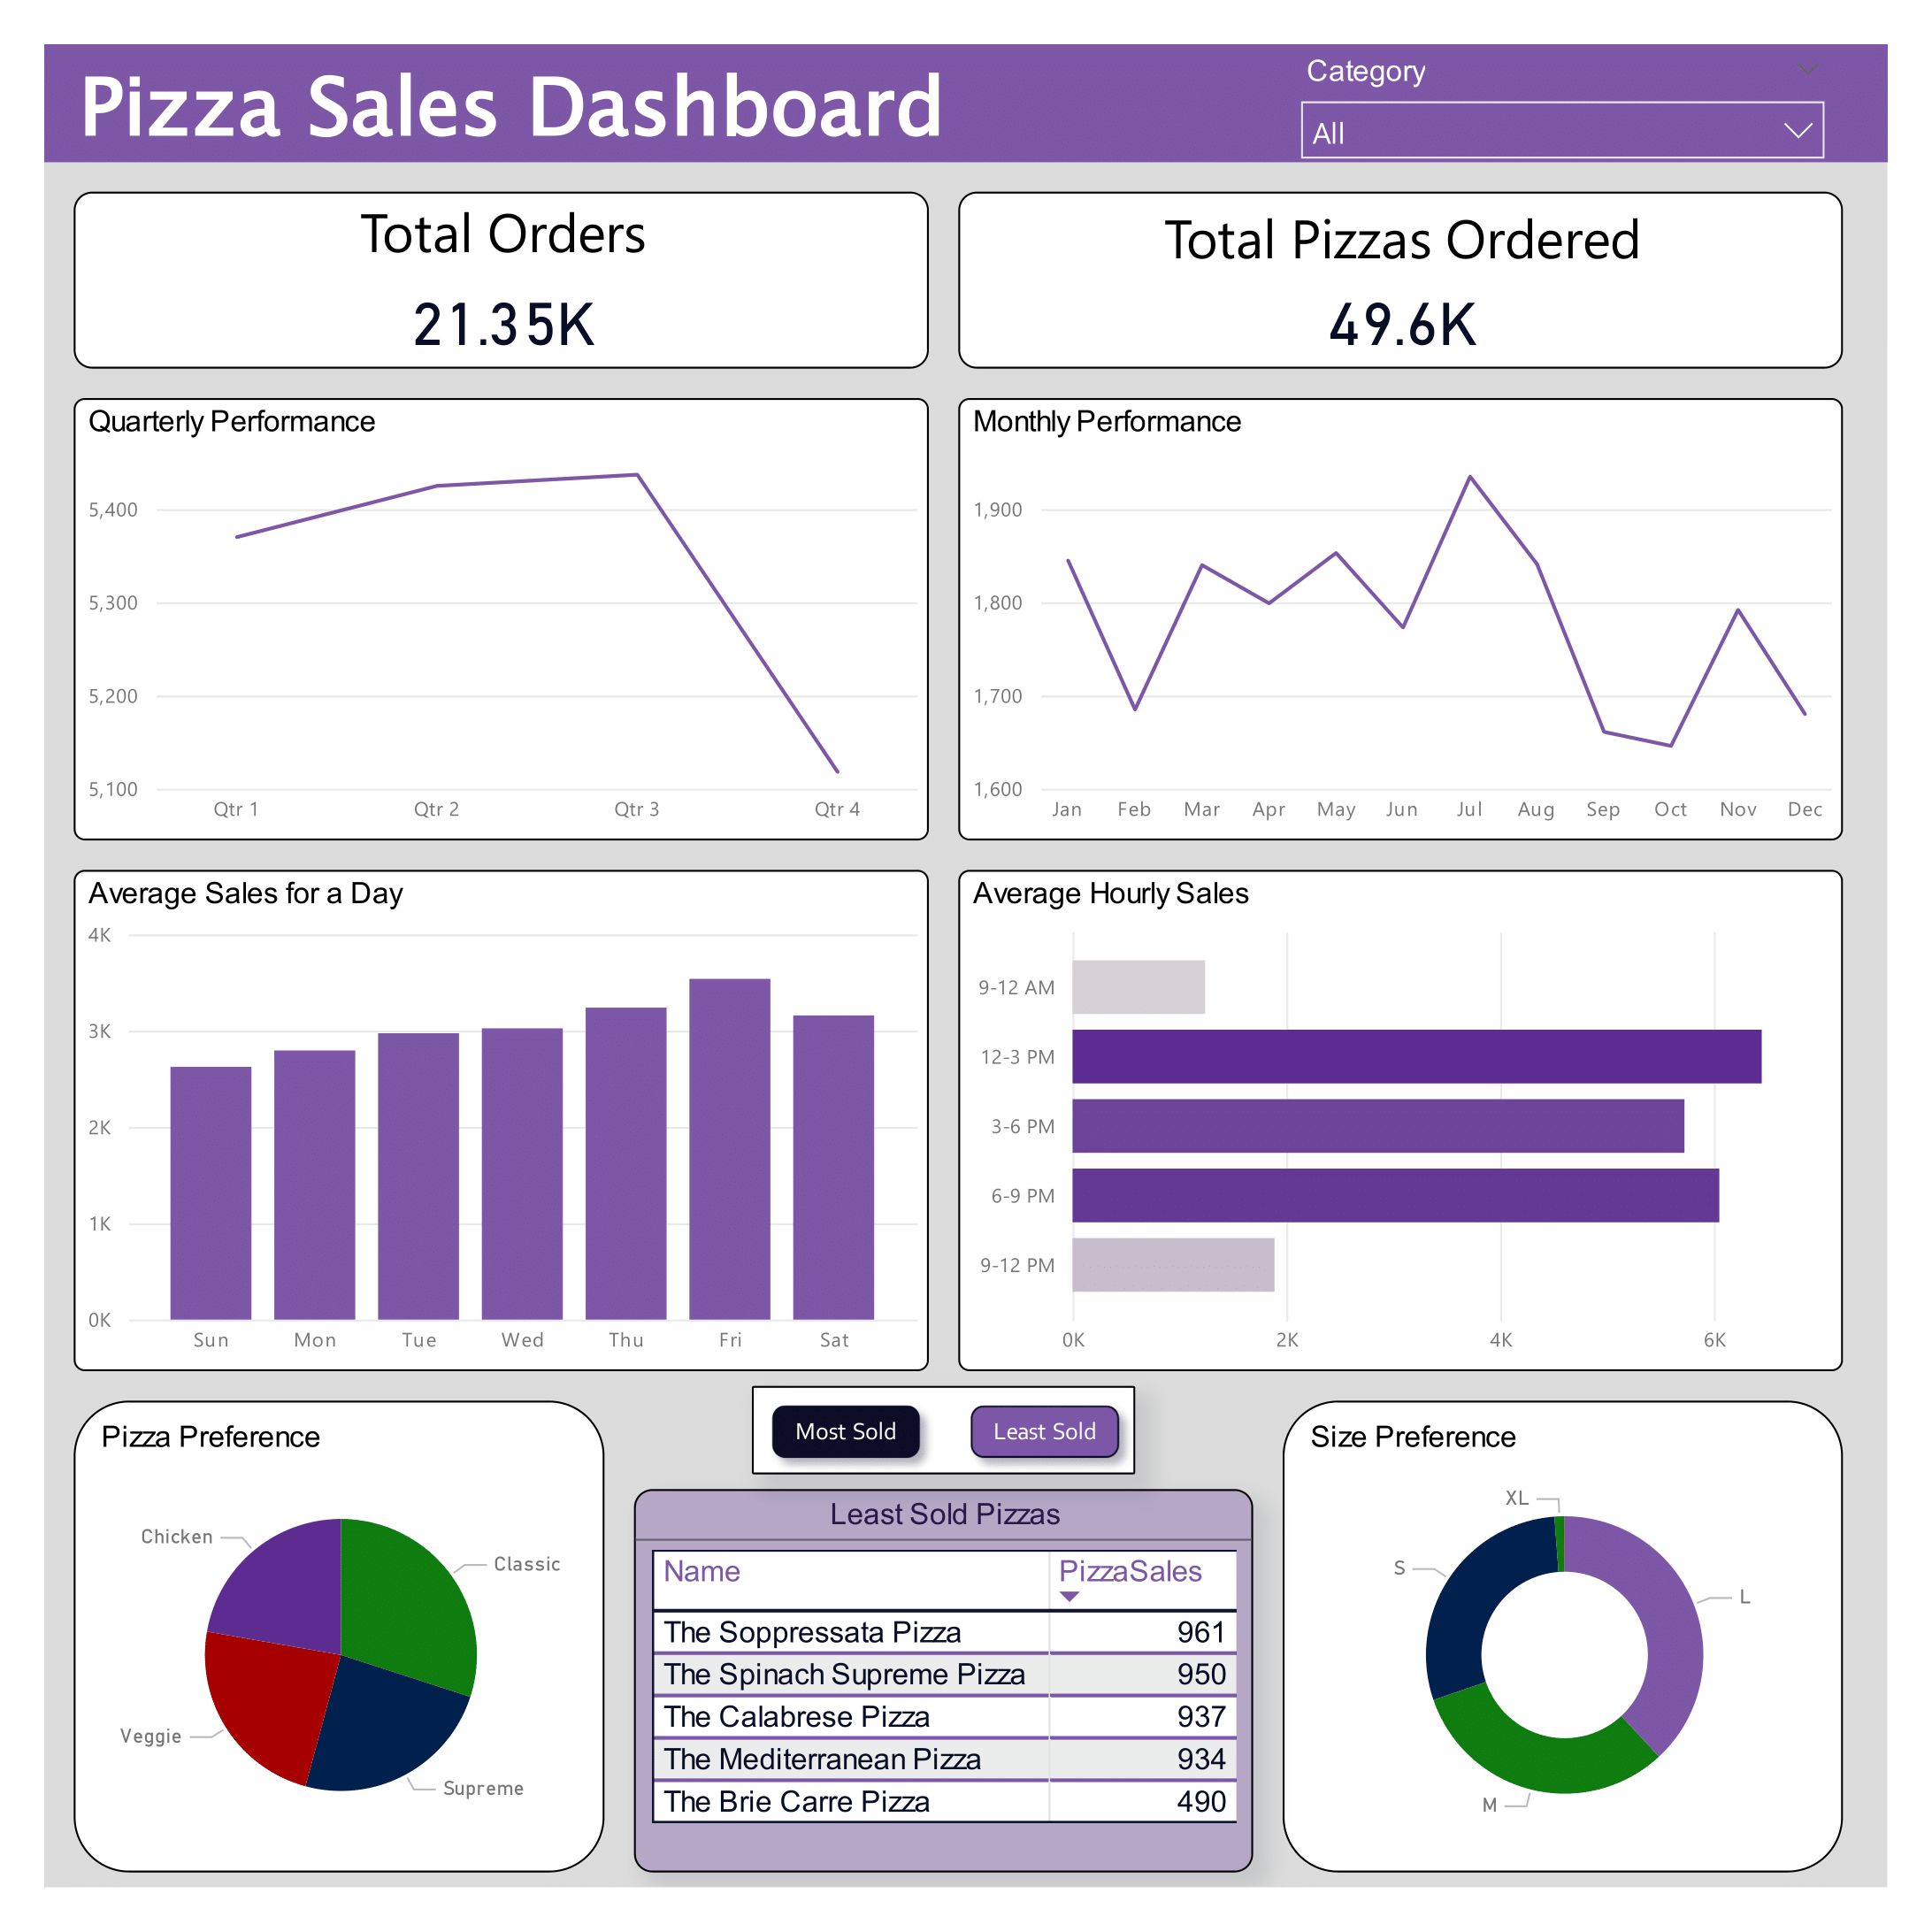

Layout of this report page (visuals, bound fields, positions):
{"tool":"powerbi","page":{"name":"Page 1","canvas":[1000,1000],"ordinal":0},"visuals":[{"type":"textbox","box":[0,0,1280,64],"z":0},{"type":"columnChart","title":"Average Sales for a Day","fields":{"Category":["Date Table.Day"],"Y":["Count(Order Details.Order ID)"]},"box":[16,448,464,272],"z":1000},{"type":"clusteredBarChart","title":"Average Hourly Sales","fields":{"Category":["Orders.Slots"],"Y":["Count(Order Details.Order ID)"]},"box":[496,448,480,272],"z":2000},{"type":"lineChart","title":"Quarterly Performance","fields":{"Category":["Date Table.Date.Variation.Date Hierarchy.Quarter"],"Y":["Count(Order Details.Order ID)"]},"box":[16,192,464,240],"z":3000},{"type":"lineChart","title":"Monthly Performance","fields":{"Category":["Date Table.Month"],"Y":["Count(Order Details.Order ID)"]},"box":[496,192,480,240],"z":4000},{"type":"card","title":"Total Orders","fields":{"Values":["Count(Order Details.Order ID)"]},"box":[16,80,464,96],"z":5000},{"type":"card","title":"Total Pizzas Ordered","fields":{"Values":["Pizzas.PizzaSales"]},"box":[496,80,480,96],"z":6000},{"type":"pieChart","title":"Pizza Preference","fields":{"Category":["Pizza Types.Category"],"Y":["CountNonNull(Order Details.Order ID)"]},"box":[16,736,288,256],"z":7000},{"type":"donutChart","title":"Size Preference","fields":{"Y":["CountNonNull(Order Details.Order ID)"],"Category":["Pizzas.Size"]},"box":[672,736,304,256],"z":8000},{"type":"tableEx","title":"Least Sold Pizzas","fields":{"Values":["Pizza Types.Name","Pizzas.PizzaSales"]},"box":[320,784,336,208],"z":10000},{"type":"bookmarkNavigator","box":[384,728,208,48],"z":11000},{"type":"slicer","fields":{"Values":["Pizza Types.Category"]},"box":[672,0,304,64],"z":11001}]}

Visuals, with their boxes in screenshot pixels (x1, y1, x2, y2), scaled from the page's 1000x1000 canvas onto the 1932x1932 screenshot:
textbox: BBox(0, 0, 1931, 124)
"Average Sales for a Day" columnChart: BBox(31, 865, 927, 1391)
"Average Hourly Sales" clusteredBarChart: BBox(958, 865, 1886, 1391)
"Quarterly Performance" lineChart: BBox(31, 371, 927, 834)
"Monthly Performance" lineChart: BBox(958, 371, 1886, 834)
"Total Orders" card: BBox(31, 155, 927, 340)
"Total Pizzas Ordered" card: BBox(958, 155, 1886, 340)
"Pizza Preference" pieChart: BBox(31, 1422, 587, 1917)
"Size Preference" donutChart: BBox(1299, 1422, 1886, 1917)
"Least Sold Pizzas" tableEx: BBox(618, 1514, 1268, 1917)
bookmarkNavigator: BBox(742, 1407, 1144, 1499)
slicer - Pizza Types.Category: BBox(1299, 0, 1886, 124)
